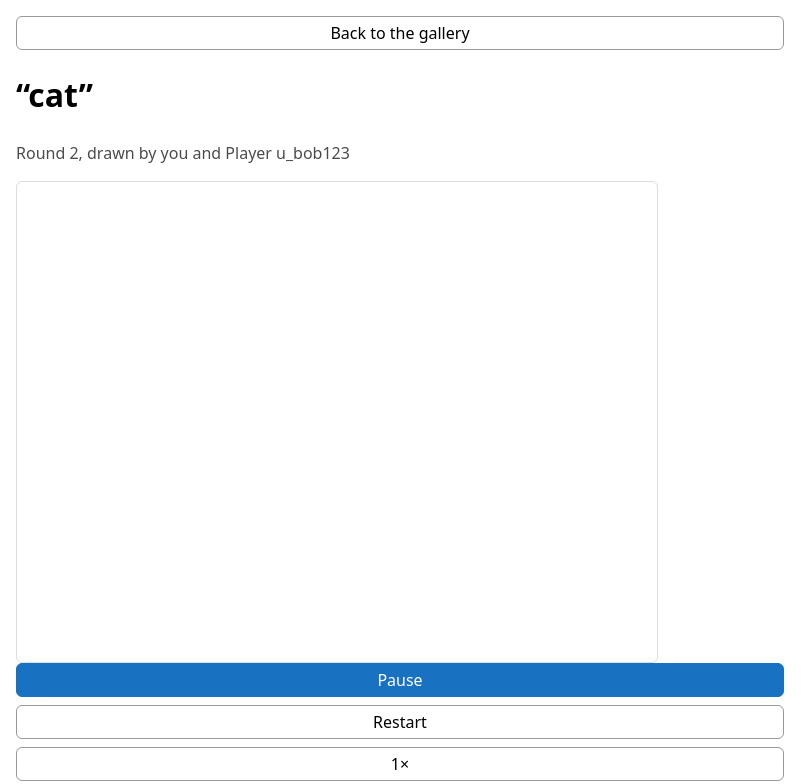
Test: DrawingPage › shows the drawing and plays its replay to the end
Expected: the heading "“cat”" is shown, [16,73,93,116]
Expected: the text "Round 2, drawn by you and Player u_bob123" is shown, [16,142,350,164]
Click the button "Restart" at (400, 722), box [16,705,784,739]
Wait 2000 ms
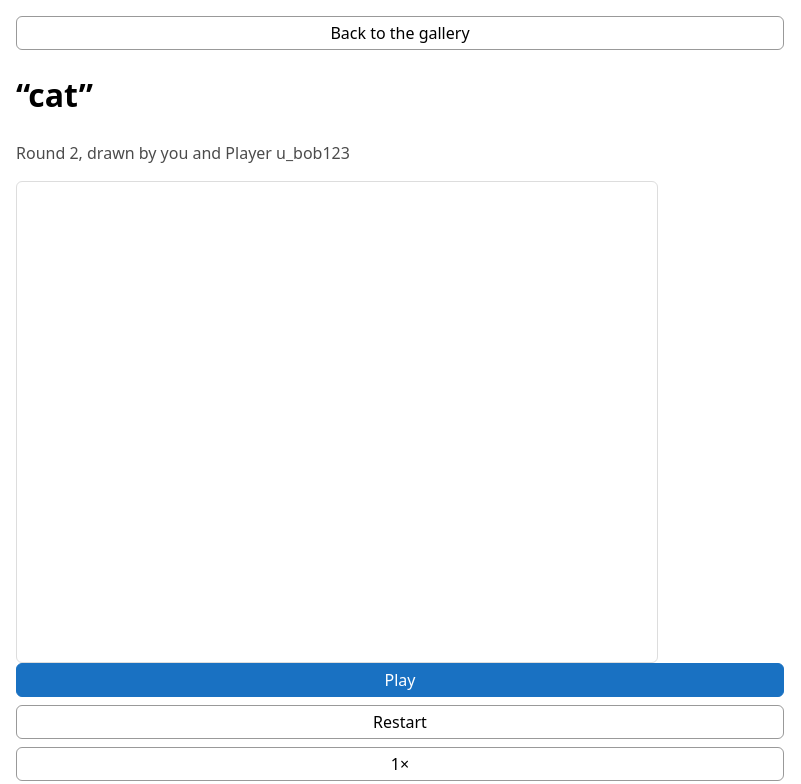
Now the button "Play" is shown, box [16,663,784,697]
